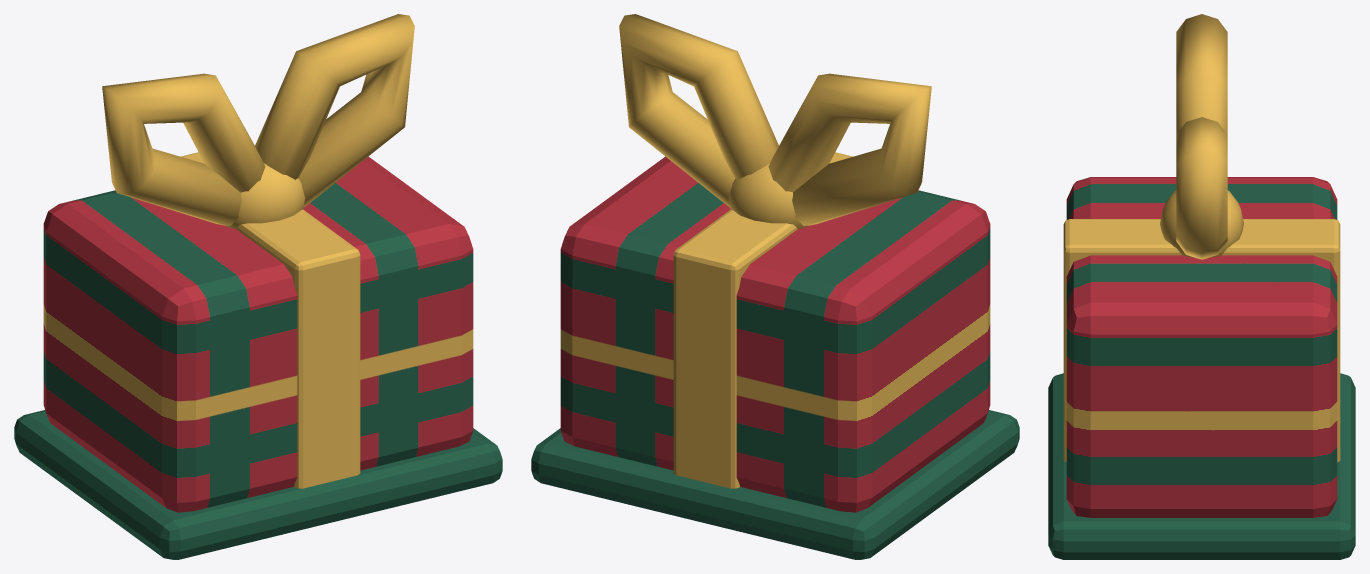
Rendered from ACC_TH_WINTER_HOLIDAYS_Primary.fbx.
3 renders of one model, left to right at view 1: azimuth 30°, elevation 25°; view 2: azimuth 150°, elevation 25°; view 3: azimuth 270°, elevation 25°, orthographic. The views are drawn at different scales.
Parts seen in each view (by area): view 1: ACC_TH_WINTER_HOLIDAYS_Primary; view 2: ACC_TH_WINTER_HOLIDAYS_Primary; view 3: ACC_TH_WINTER_HOLIDAYS_Primary.
Boxes of the visible parts, x1=… form: ACC_TH_WINTER_HOLIDAYS_Primary: x1=14, y1=14, x2=502, y2=559; ACC_TH_WINTER_HOLIDAYS_Primary: x1=531, y1=14, x2=1019, y2=559; ACC_TH_WINTER_HOLIDAYS_Primary: x1=1048, y1=14, x2=1355, y2=559.
Size of the model in its own units: 63 by 73.46 by 51.
